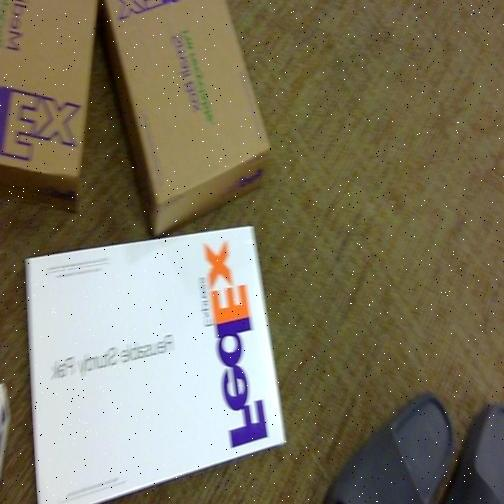Amazon: (39, 216, 280, 504), (112, 0, 268, 219)
